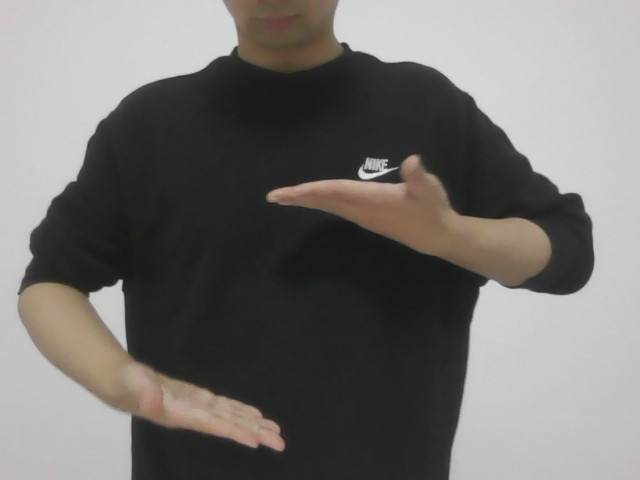happy: (122, 149, 466, 457)
